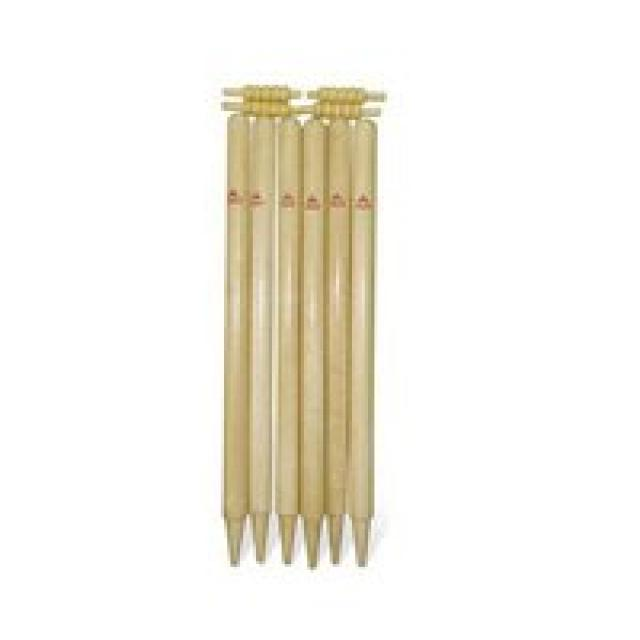stump: (218, 81, 378, 569)
